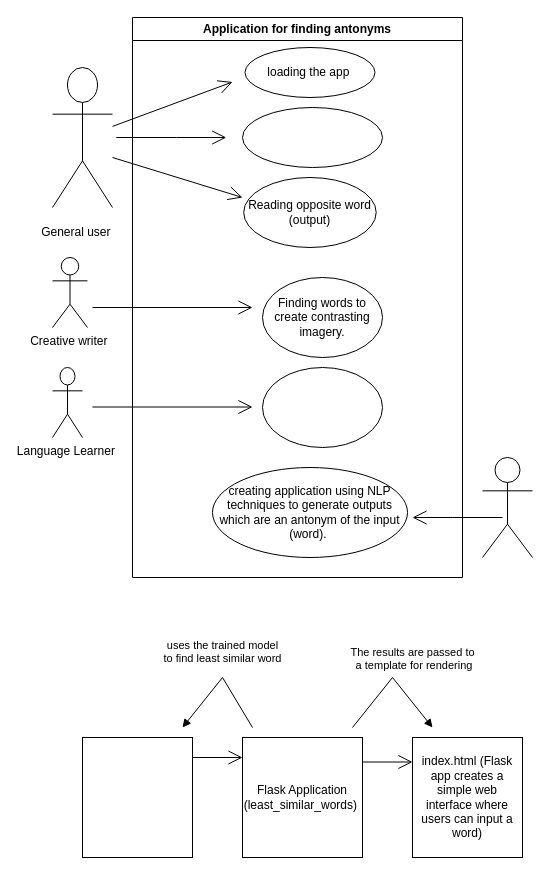
Some shapes in this 558 by 875 pixel diagram are drawn without their labels. Here are the shapes that lost their labels. From the top down, the centre of each, then its label:
At pixel 312 137: "typing word (input) into app".
At pixel 322 407: "Using the outputs to build vocabulary in a new language.".
At pixel 507 507: "Programmer".
At pixel 137 797: "Trained word2vec model".
